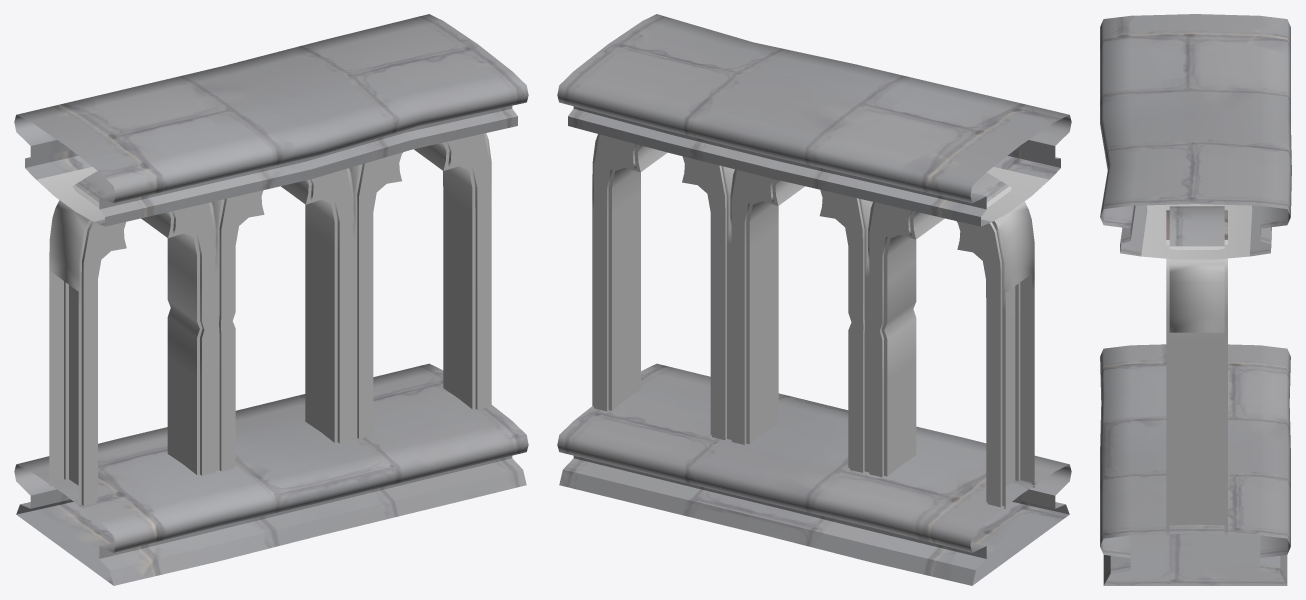
The model's file is SM_Fence1m.fbx.
The picture shows the model from 3 angles, left to right: view 1: azimuth 30°, elevation 25°; view 2: azimuth 150°, elevation 25°; view 3: azimuth 270°, elevation 25°; orthographic projection. The views are drawn at different scales.
Parts seen in each view (by area): view 1: SM_Fence1m; view 2: SM_Fence1m; view 3: SM_Fence1m.
Boxes of the visible parts, box(x1,y1,x2,y2) form: SM_Fence1m: box(14, 14, 528, 585); SM_Fence1m: box(557, 14, 1071, 585); SM_Fence1m: box(1100, 14, 1291, 585).
Size of the model in its own units: 1 by 0.9466 by 0.4268.
